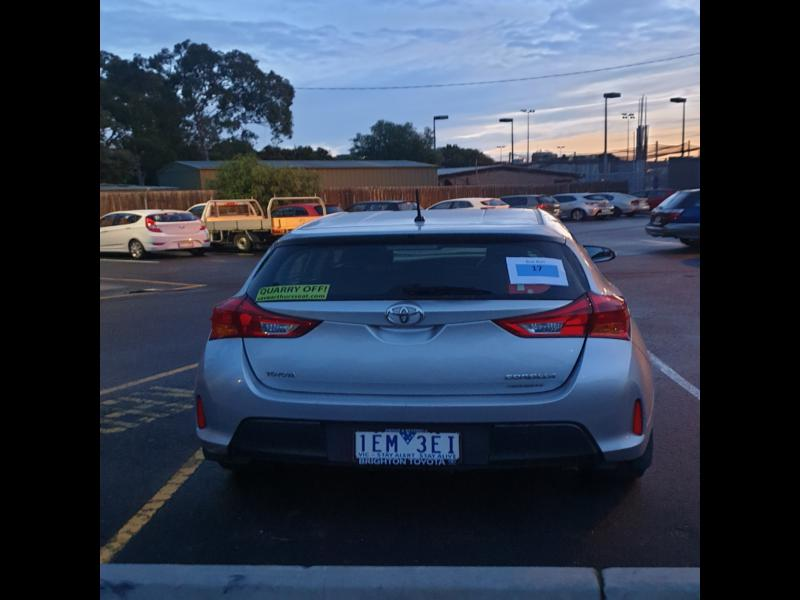BusRun: (518, 263, 560, 276)
PlateNo: (357, 431, 461, 460)
